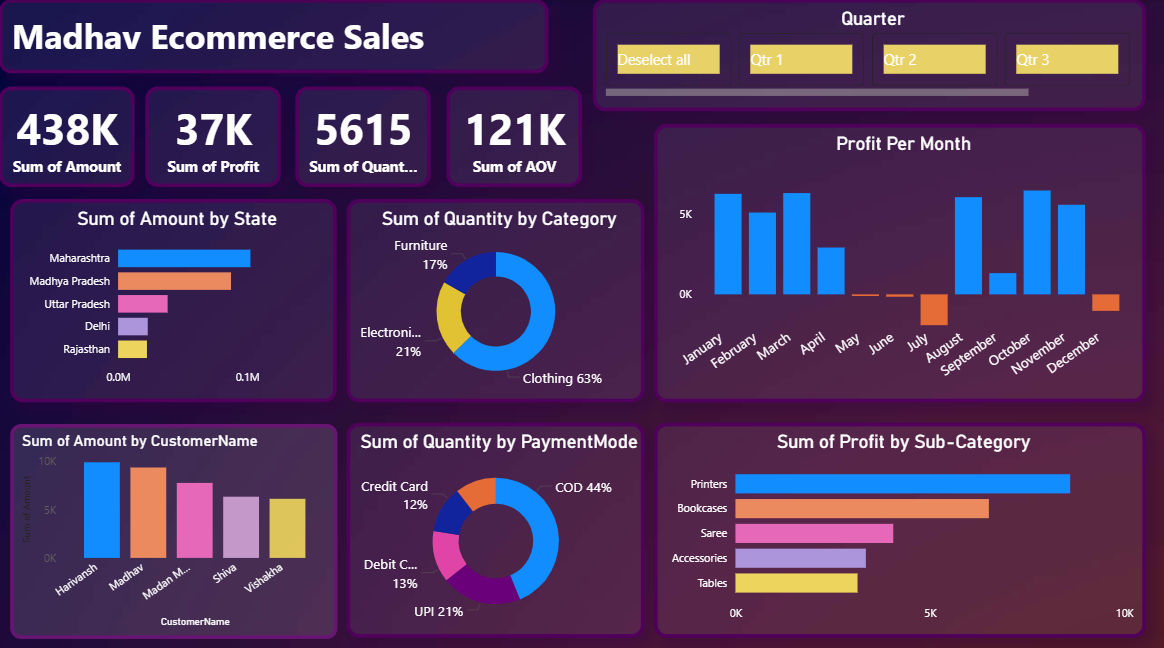

The page's visual inventory and layout, read from the dashboard file:
{"tool":"powerbi","page":{"name":"Page 1","canvas":[1280,720],"ordinal":0},"visuals":[{"type":"textbox","box":[0,0,602.9,81.4],"z":0},{"type":"clusteredColumnChart","title":"Profit Per Month","fields":{"Category":["Orders.Order Date.Variation.Date Hierarchy.Month"],"Y":["Sum(Details.Profit)"]},"box":[718.6,137.1,540,305.7],"z":1000},{"type":"barChart","fields":{"Category":["Details.Sub-Category"],"Y":["Sum(Details.Profit)"]},"box":[718.6,465.7,540,235.7],"z":2000},{"type":"donutChart","fields":{"Category":["Details.Category"],"Y":["Sum(Details.Quantity)"]},"box":[381.4,220,327.1,222.9],"z":3000},{"type":"donutChart","fields":{"Y":["Sum(Details.Quantity)"],"Category":["Details.PaymentMode"]},"box":[381.4,465.7,327.1,235.7],"z":4000},{"type":"card","fields":{"Values":["Sum(Details.Amount)"]},"box":[0,95.7,148.6,110],"z":5000},{"type":"card","fields":{"Values":["Sum(Details.Profit)"]},"box":[160,95.7,148.6,110],"z":6000},{"type":"card","fields":{"Values":["Sum(Details.Quantity)"]},"box":[325.7,95.7,148.6,110],"z":7000},{"type":"card","fields":{"Values":["Sum(Details.AOV)"]},"box":[491.4,95.7,148.6,110],"z":8000},{"type":"barChart","fields":{"Category":["Orders.State"],"Y":["Sum(Details.Amount)"]},"box":[12.9,220,358.6,222.9],"z":9000},{"type":"clusteredColumnChart","fields":{"Category":["Orders.CustomerName"],"Y":["Sum(Details.Amount)"]},"box":[13,466,359,236],"z":10000},{"type":"advancedSlicerVisual","fields":{"Values":["Orders.Order Date.Variation.Date Hierarchy.Quarter"]},"box":[651.4,0,607.1,122.9],"z":11000}]}

Visuals, with their boxes in screenshot pixels (x1, y1, x2, y2), scaled from the page's 1280x720 canvas onto the 1164x648 screenshot:
textbox: box=[0, 0, 548, 73]
"Profit Per Month" clusteredColumnChart: box=[653, 123, 1145, 399]
barChart - Details.Sub-Category x Sum(Details.Profit): box=[653, 419, 1145, 631]
donutChart - Details.Category x Sum(Details.Quantity): box=[347, 198, 644, 399]
donutChart - Sum(Details.Quantity) x Details.PaymentMode: box=[347, 419, 644, 631]
card - Sum(Details.Amount): box=[0, 86, 135, 185]
card - Sum(Details.Profit): box=[146, 86, 281, 185]
card - Sum(Details.Quantity): box=[296, 86, 431, 185]
card - Sum(Details.AOV): box=[447, 86, 582, 185]
barChart - Orders.State x Sum(Details.Amount): box=[12, 198, 338, 399]
clusteredColumnChart - Orders.CustomerName x Sum(Details.Amount): box=[12, 419, 338, 632]
advancedSlicerVisual - Orders.Order Date.Variation.Date Hierarchy.Quarter: box=[592, 0, 1144, 111]
